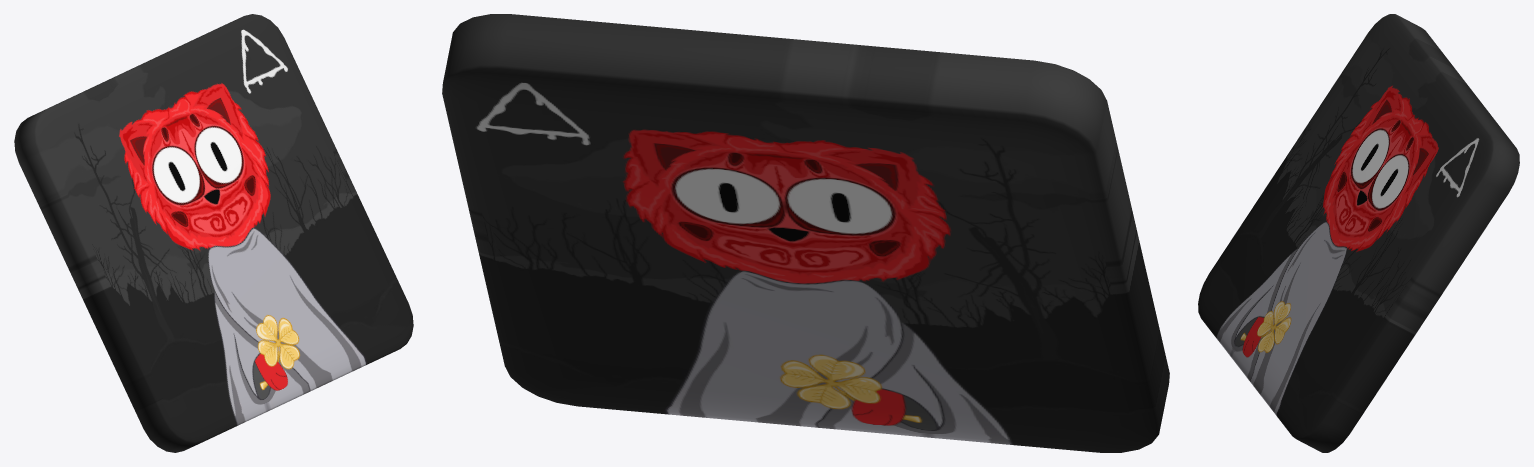
The model's file is WEB3_BIGISLAND_REMESHED_GEN1.gltf.
3 views of the same model, side by side, from view 1: azimuth 30°, elevation 25°; view 2: azimuth 150°, elevation 25°; view 3: azimuth 270°, elevation 25° (orthographic). The views are drawn at different scales.
Visible parts, largest first — view 1: Genesis2; view 2: Genesis2; view 3: Genesis2.
Boxes of the visible parts, box(x1,y1,x2,y2) form: Genesis2: box(14, 14, 413, 452); Genesis2: box(442, 14, 1169, 452); Genesis2: box(1198, 14, 1519, 452).
Bounding box in the file's own units: 1.06 × 0.8286 × 0.8313.
Materials: 1 (1 with a texture image).
